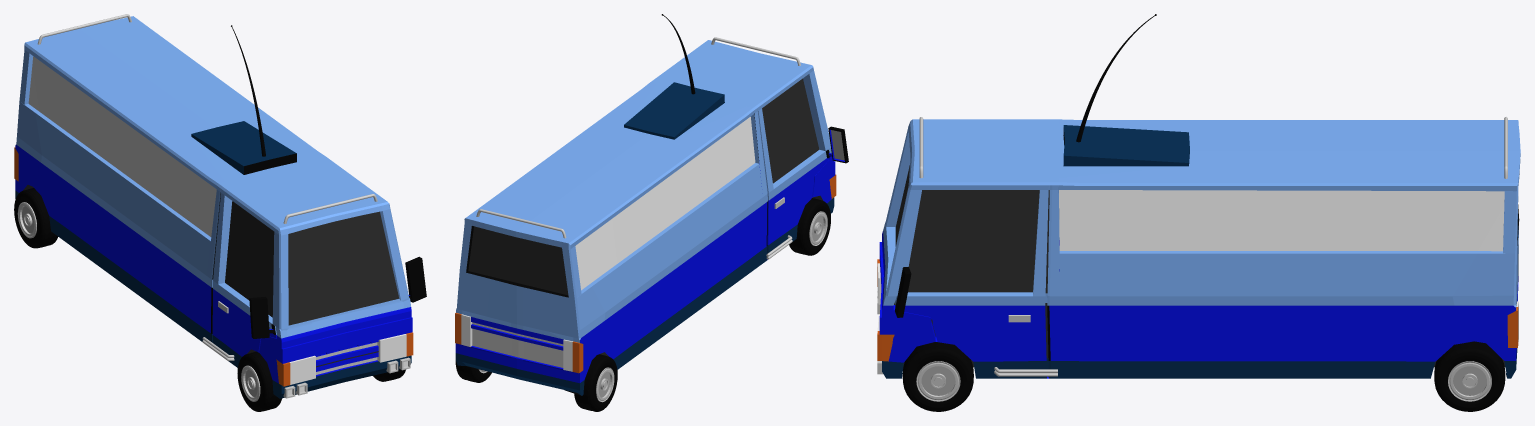
Rendered from CR-CAR-13B.fbx.
The picture shows the model from 3 angles, left to right: view 1: azimuth 30°, elevation 25°; view 2: azimuth 150°, elevation 25°; view 3: azimuth 270°, elevation 25°; orthographic projection. The views are drawn at different scales.
Visible parts, largest first — view 1: BODY, WHEEL.001, WHEEL.004, NurbsPath; view 2: BODY, WHEEL.004, WHEEL.001, NurbsPath, WHEEL.002; view 3: BODY, WHEEL.002, WHEEL.003, NurbsPath.
Boxes of the visible parts, left/top/right/bottom form: BODY: left=14, top=16, right=426, bottom=398; WHEEL.001: left=237, top=351, right=281, bottom=411; WHEEL.004: left=14, top=188, right=57, bottom=248; NurbsPath: left=37, top=14, right=377, bottom=360; BODY: left=455, top=14, right=848, bottom=395; WHEEL.004: left=574, top=354, right=617, bottom=411; WHEEL.001: left=789, top=198, right=830, bottom=255; NurbsPath: left=476, top=37, right=800, bottom=259; WHEEL.002: left=455, top=360, right=491, bottom=382; BODY: left=877, top=14, right=1520, bottom=378; WHEEL.002: left=1434, top=341, right=1505, bottom=411; WHEEL.003: left=902, top=342, right=973, bottom=411; NurbsPath: left=919, top=117, right=1507, bottom=376.
Bounding box in the file's own units: 131 × 217 × 353.
